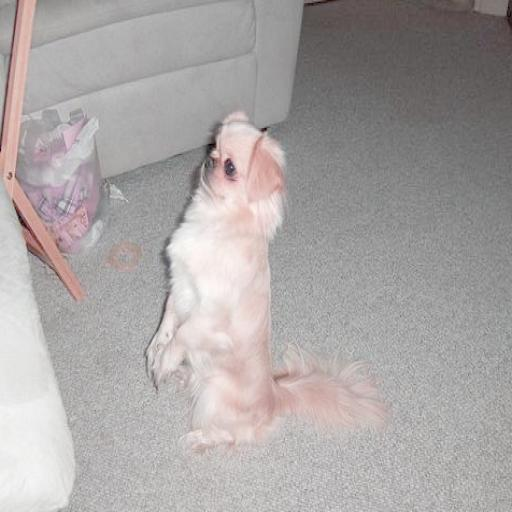dog_face: (191, 124, 295, 221)
